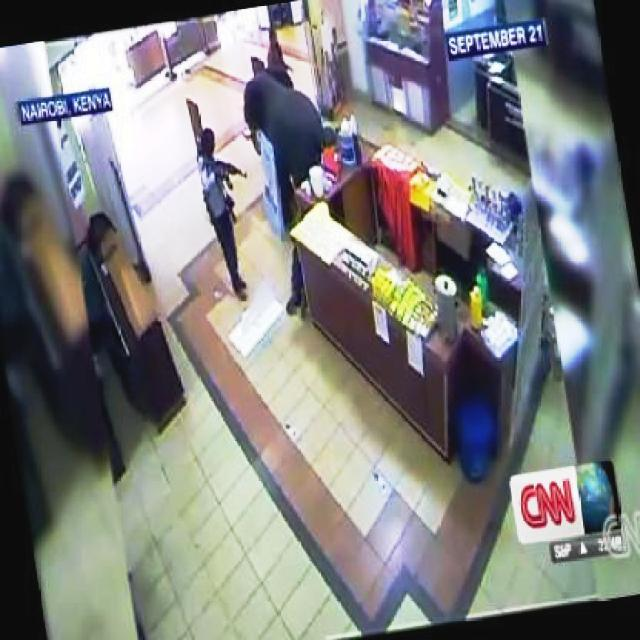Gun: (206, 158, 261, 197)
